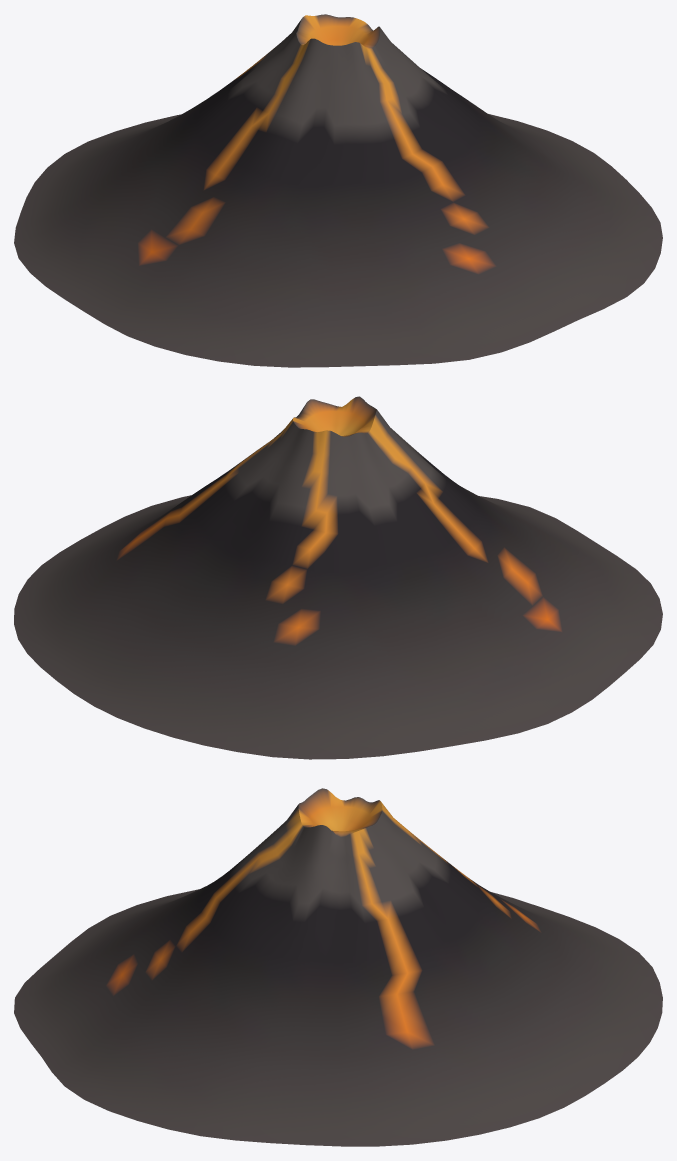
Rendered from env_volcano.glb.
3 views of the same model, one above another, from view 1: azimuth 30°, elevation 25°; view 2: azimuth 150°, elevation 25°; view 3: azimuth 270°, elevation 25° (orthographic).
Visible parts, largest first — view 1: lv_volcano; view 2: lv_volcano; view 3: lv_volcano.
Boxes of the visible parts, left/top/right/bottom form: lv_volcano: left=14, top=14, right=662, bottom=367; lv_volcano: left=14, top=396, right=662, bottom=759; lv_volcano: left=14, top=788, right=662, bottom=1146.
Bounding box in the file's own units: 905 × 330 × 929.
